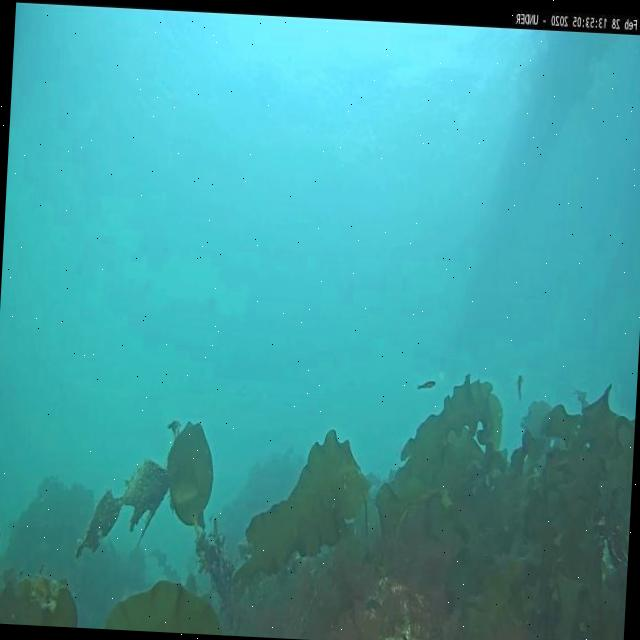fish: (415, 378, 439, 391), (516, 374, 524, 397)
